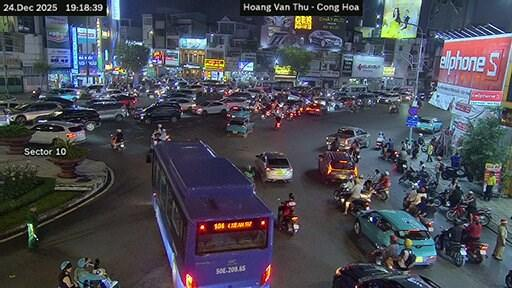motorbike: (74, 259, 118, 287), (435, 229, 466, 265), (278, 202, 297, 234), (362, 176, 387, 199), (464, 239, 487, 262), (397, 166, 428, 183), (441, 165, 473, 180), (348, 193, 370, 214), (444, 203, 467, 220), (150, 130, 169, 148), (417, 179, 437, 196), (472, 207, 490, 225), (378, 148, 399, 162), (332, 189, 349, 206), (281, 216, 297, 234), (432, 189, 448, 206), (418, 216, 432, 232), (111, 134, 124, 151), (394, 157, 406, 172), (374, 135, 384, 148), (349, 148, 358, 162), (505, 270, 511, 287), (387, 104, 397, 112), (31, 90, 41, 98), (287, 111, 294, 118), (275, 121, 280, 130)
